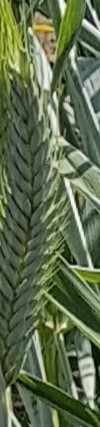Healthy Wheat: (1, 71, 71, 376)
